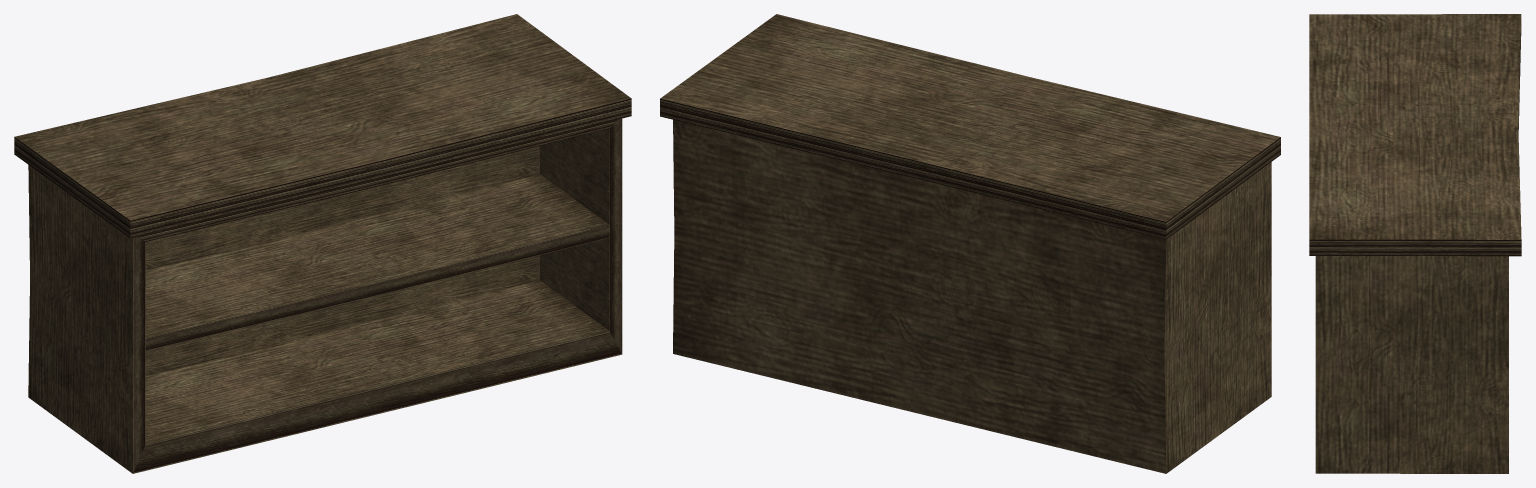
The model's file is GS_VOB_COUNTER_BROWN_01_KOZA.glb.
3 renders of one model, left to right at view 1: azimuth 30°, elevation 25°; view 2: azimuth 150°, elevation 25°; view 3: azimuth 270°, elevation 25°, orthographic. The views are drawn at different scales.
Visible parts, largest first — view 1: GS_VOB_COUNTER_BROWN_01_KOZA; view 2: GS_VOB_COUNTER_BROWN_01_KOZA; view 3: GS_VOB_COUNTER_BROWN_01_KOZA.
Part boxes in pixels (x1,y1,x2,y2): GS_VOB_COUNTER_BROWN_01_KOZA: (14,14,631,473); GS_VOB_COUNTER_BROWN_01_KOZA: (660,14,1280,473); GS_VOB_COUNTER_BROWN_01_KOZA: (1309,14,1521,473).
Size of the model in its own units: 2.08 by 1.02 by 0.8242.
Materials: 2 (2 with a texture image).
